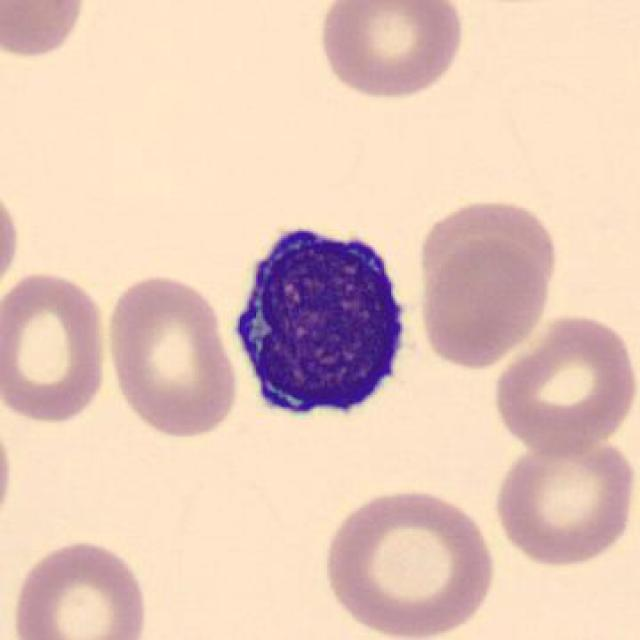RBC: (315, 483, 501, 638), (101, 270, 242, 441), (490, 308, 640, 458), (414, 217, 556, 374), (489, 425, 638, 569), (0, 266, 110, 430), (313, 0, 471, 104), (7, 532, 155, 640), (0, 0, 94, 63)
